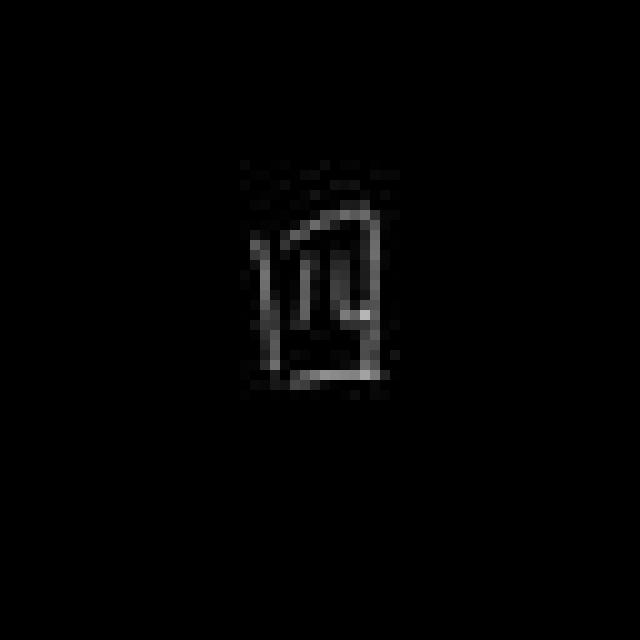4 -four-: (243, 194, 401, 402)
